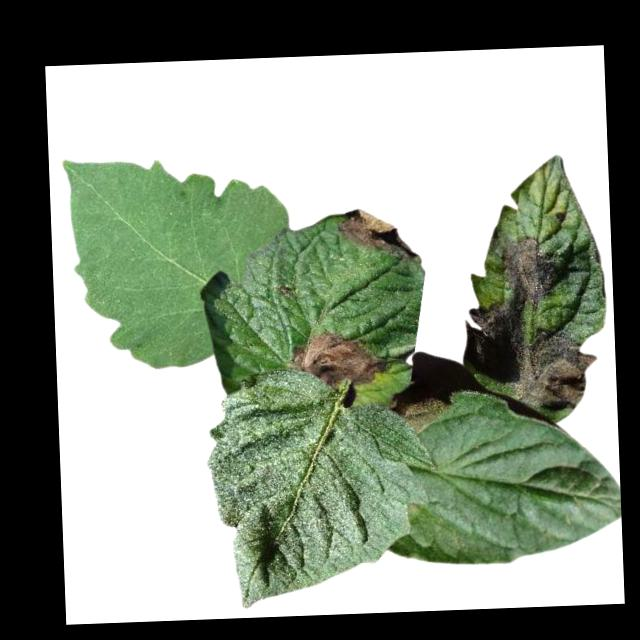Late_blight: (462, 298, 600, 416), (290, 326, 392, 390), (485, 225, 561, 304), (335, 206, 420, 265), (390, 395, 449, 434), (273, 284, 294, 300)
